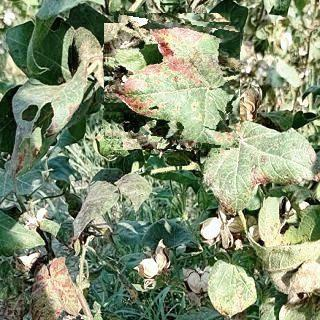blight: (104, 14, 240, 149)
